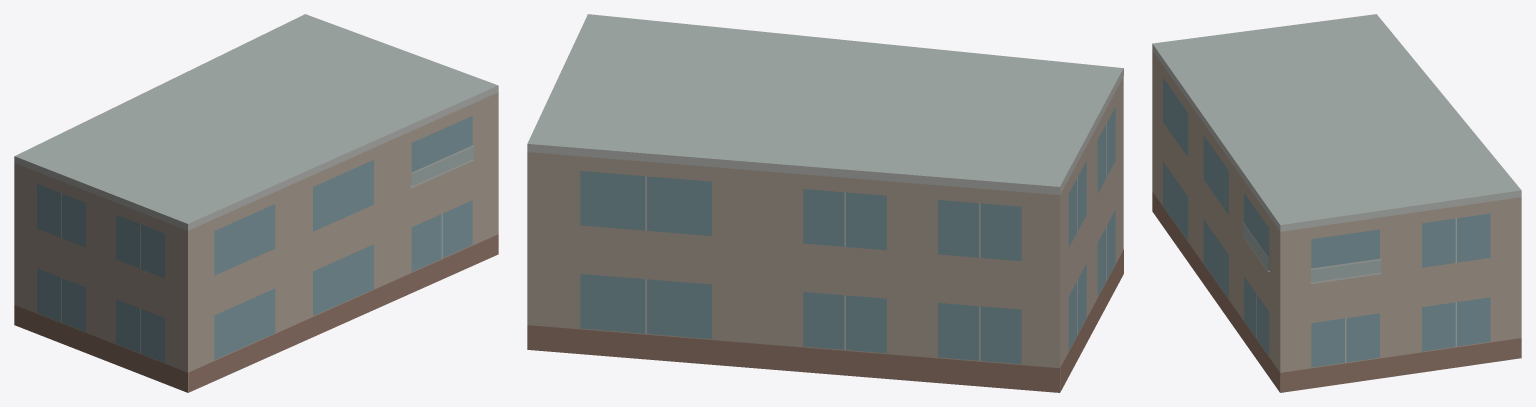
File: survey-upis-32632294.glb
3 views of the same model, side by side, from view 1: azimuth 30°, elevation 25°; view 2: azimuth 150°, elevation 25°; view 3: azimuth 270°, elevation 25° (orthographic). The views are drawn at different scales.
Visible parts, largest first — view 1: survey-upis-32632294.tmp; view 2: survey-upis-32632294.tmp; view 3: survey-upis-32632294.tmp.
Boxes of the visible parts, x1,y1,x2,y2 form: survey-upis-32632294.tmp: [14, 14, 498, 392]; survey-upis-32632294.tmp: [527, 14, 1123, 392]; survey-upis-32632294.tmp: [1152, 14, 1521, 392].
Size of the model in its own units: 16.48 by 6.1 by 12.18.
